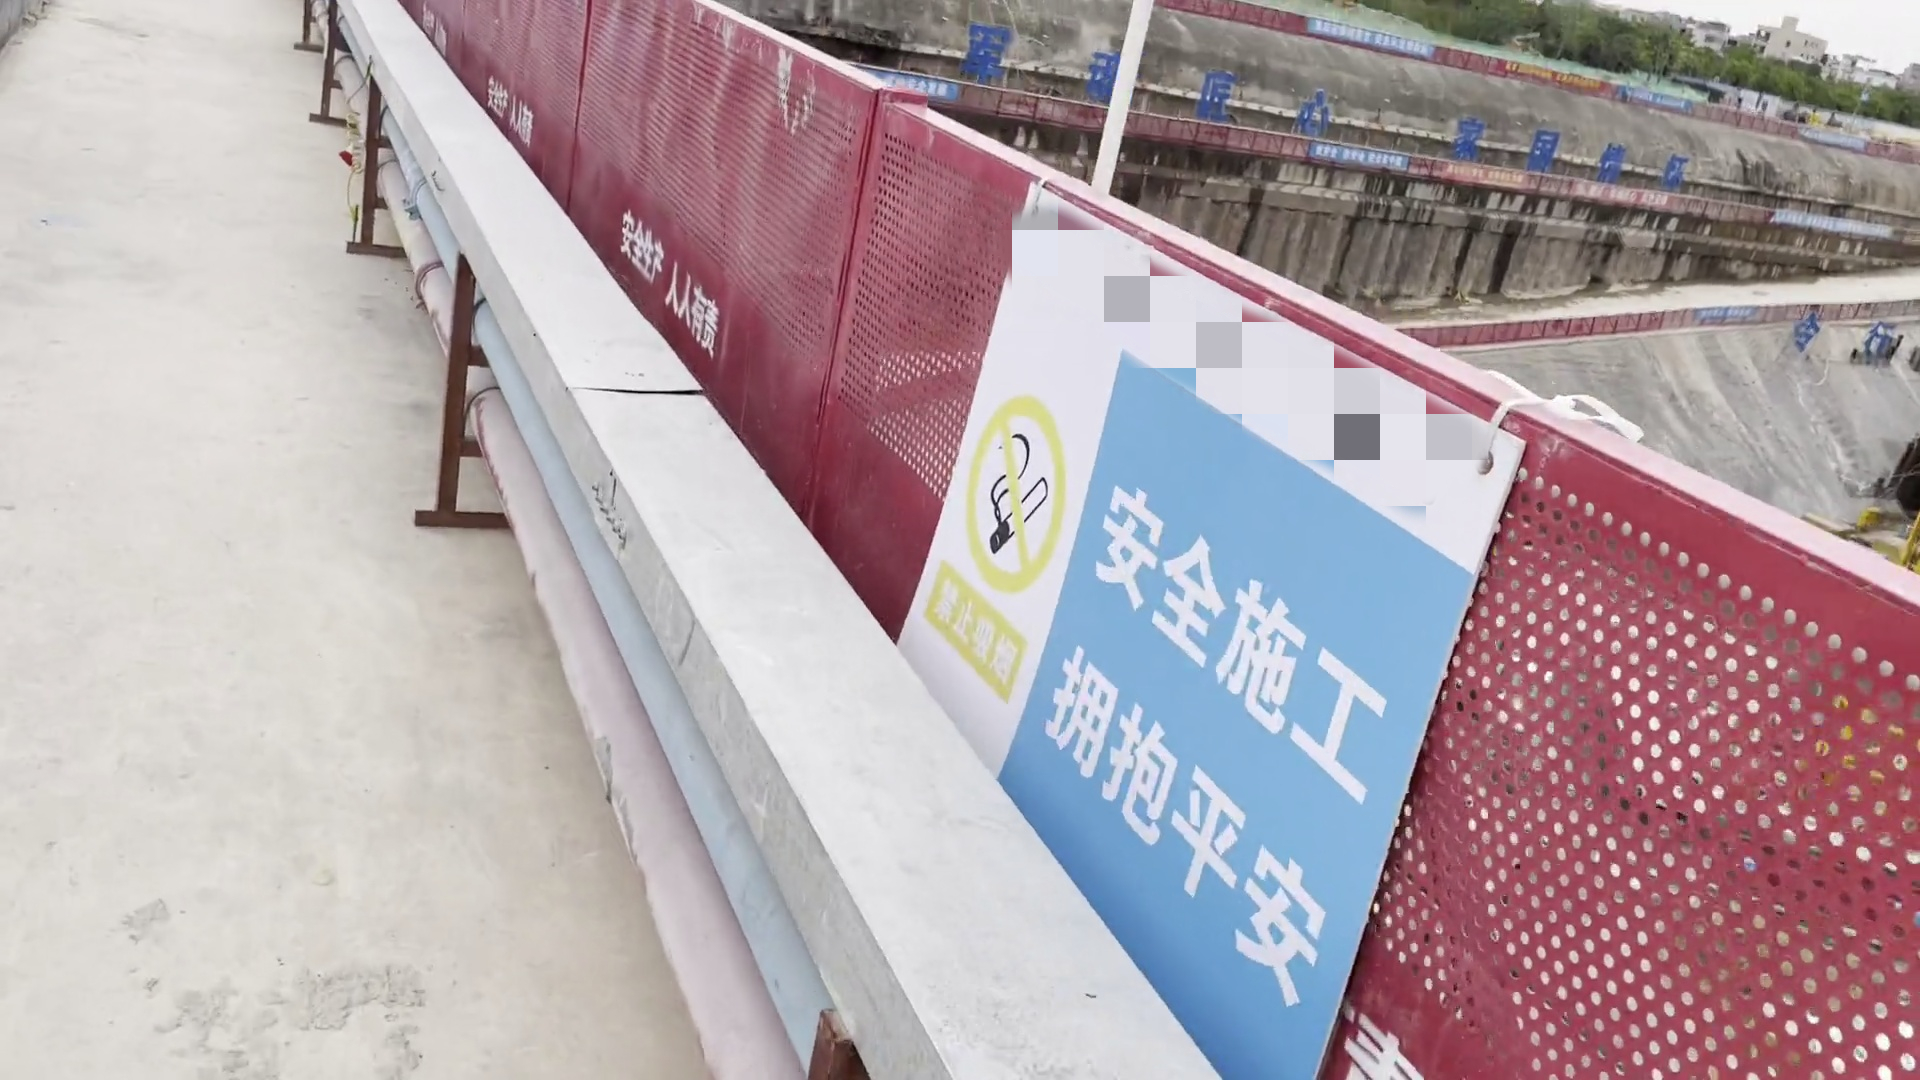fence: (1254, 273, 1920, 1080), (814, 73, 1261, 1080), (400, 4, 841, 556)
slogan: (887, 169, 1542, 1080), (1758, 193, 1911, 251), (1308, 11, 1452, 70), (857, 59, 996, 116), (1564, 170, 1681, 218), (1300, 135, 1422, 173), (1443, 158, 1545, 199), (1611, 82, 1698, 127)
